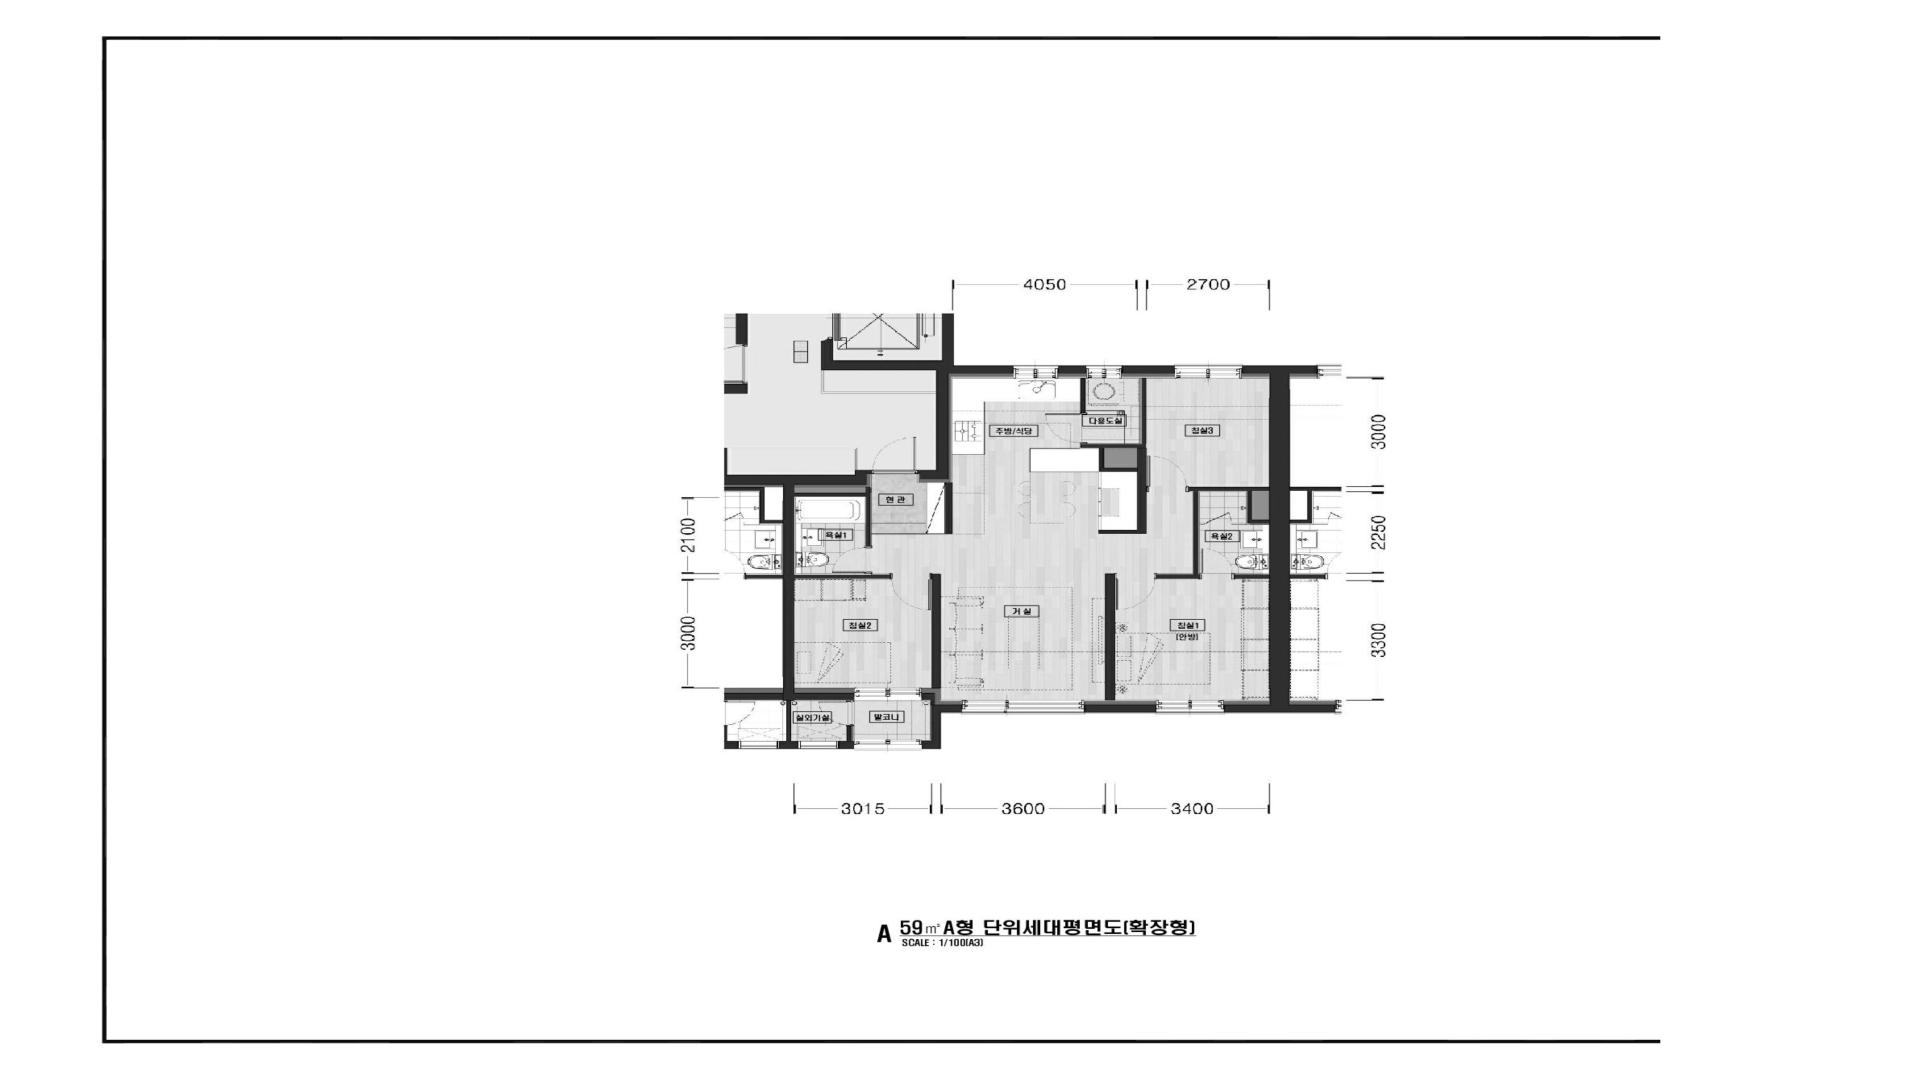door: (872, 436, 918, 475), (890, 574, 932, 611), (1147, 455, 1188, 492), (1116, 574, 1156, 611), (1044, 413, 1087, 444), (833, 546, 872, 575), (1199, 549, 1234, 579), (819, 700, 855, 727), (1200, 512, 1232, 525)
wall: (724, 469, 872, 749), (1224, 365, 1336, 713), (822, 314, 1013, 479), (1080, 378, 1146, 448), (794, 487, 870, 546), (922, 704, 961, 749), (1105, 574, 1116, 700), (931, 574, 942, 688), (1137, 447, 1147, 534), (1098, 448, 1137, 472), (1247, 491, 1270, 524), (1084, 704, 1155, 713), (1192, 491, 1199, 579), (795, 692, 855, 700), (1122, 365, 1175, 373), (944, 483, 952, 534), (1188, 487, 1270, 491), (795, 575, 890, 578), (1059, 365, 1085, 373), (1156, 574, 1192, 579), (1234, 574, 1270, 579), (1080, 378, 1085, 413), (922, 692, 935, 704), (1098, 530, 1137, 534), (839, 741, 855, 749), (847, 727, 853, 741), (1232, 524, 1246, 525)
window: (961, 700, 1084, 713), (1155, 700, 1224, 713), (855, 687, 922, 700), (1175, 365, 1242, 378), (855, 740, 922, 749), (1013, 365, 1058, 378), (1085, 365, 1122, 378), (799, 741, 839, 749)
